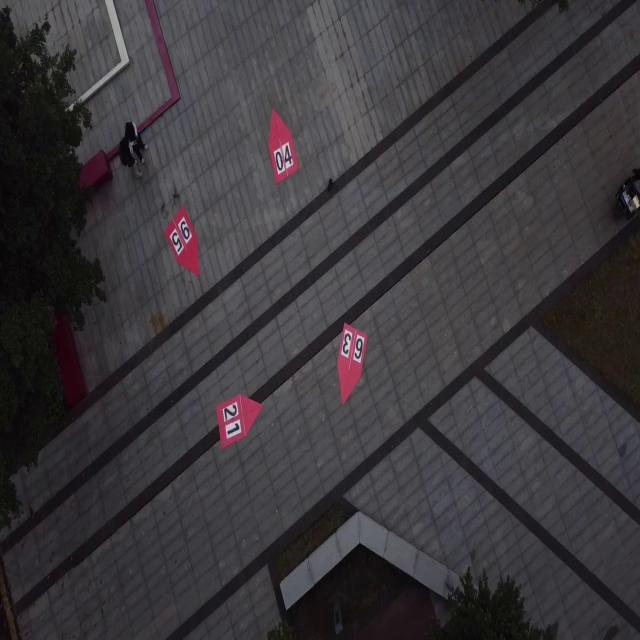-sign-: (337, 322, 368, 406), (164, 206, 200, 278), (216, 393, 261, 450), (267, 107, 299, 185)
